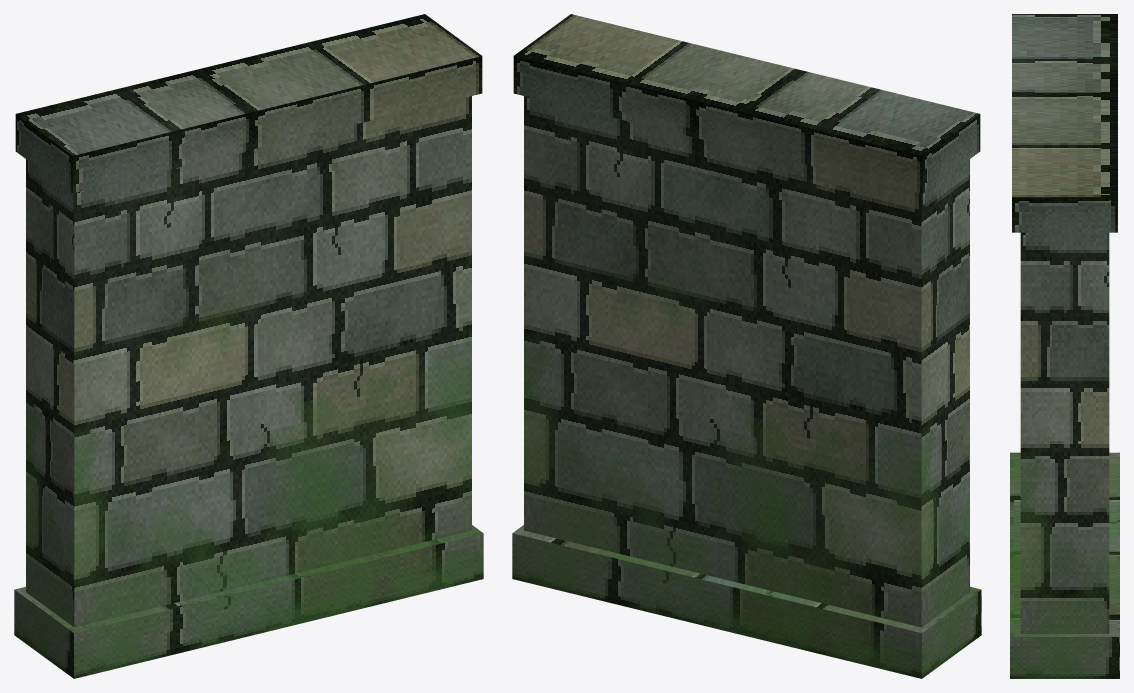
File: parede_de_musgosa.glb
3 renders of one model, left to right at view 1: azimuth 30°, elevation 25°; view 2: azimuth 150°, elevation 25°; view 3: azimuth 270°, elevation 25°, orthographic. The views are drawn at different scales.
Visible parts, largest first — view 1: parede_de_musgosa; view 2: parede_de_musgosa; view 3: parede_de_musgosa.
Part boxes in pixels (x1,y1,x2,y2): parede_de_musgosa: (14,14,483,678); parede_de_musgosa: (512,14,981,678); parede_de_musgosa: (1010,14,1119,678).
Bounding box in the file's own units: 2.06 × 2.51 × 0.52.
Materials: 1 (1 with a texture image).
